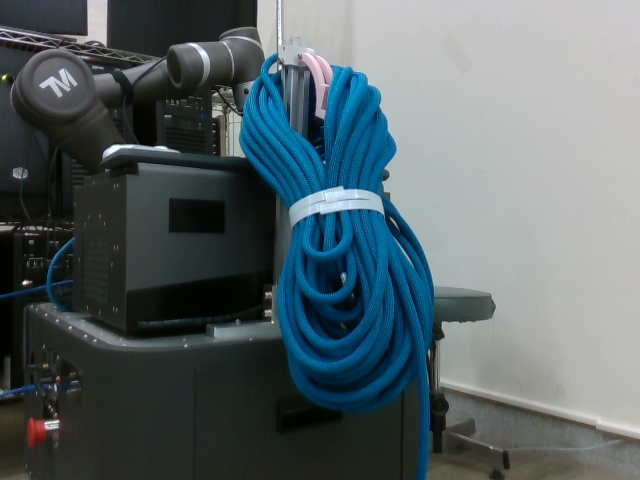rope: (237, 50, 441, 480)
